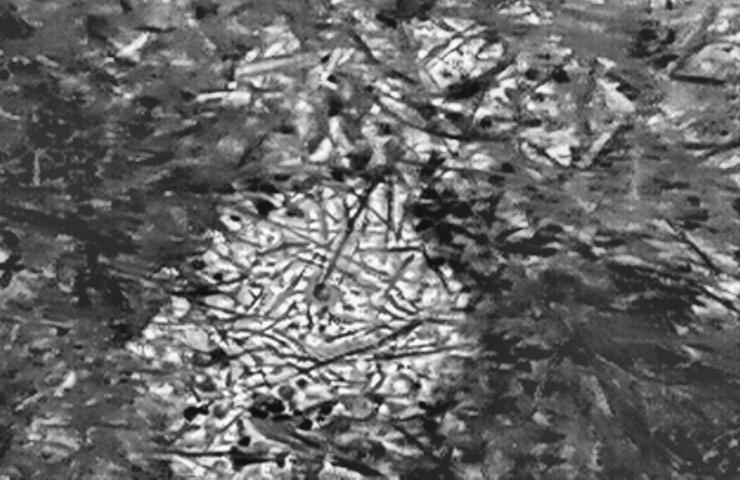landmines: (165, 172, 488, 444)
